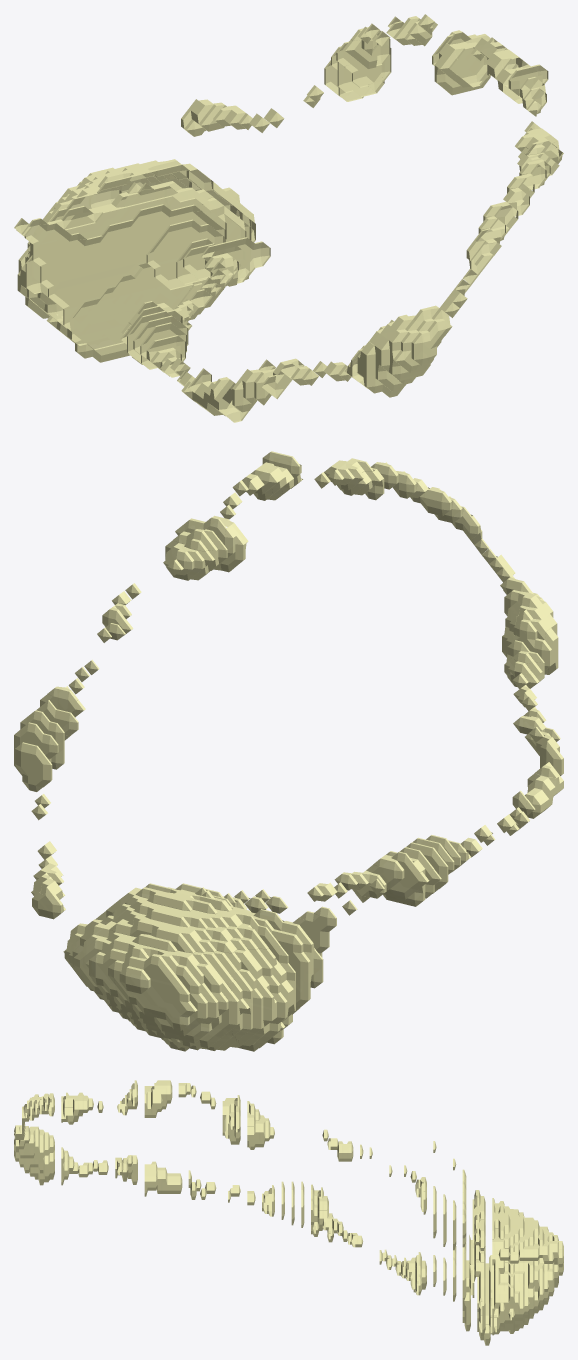
File: SVV_IL2DR.gltf
3 renders of one model, top to bottom at view 1: azimuth 30°, elevation 25°; view 2: azimuth 150°, elevation 25°; view 3: azimuth 270°, elevation 25°, orthographic. The views are drawn at different scales.
Parts seen in each view (by area): view 1: IL2DR; view 2: IL2DR; view 3: IL2DR.
Boxes of the visible parts, <box> form: IL2DR: <box>14,14,563,422</box>; IL2DR: <box>14,451,563,1051</box>; IL2DR: <box>14,1080,563,1345</box>.
Bounding box in the file's own units: 25090 × 26123 × 43159.
